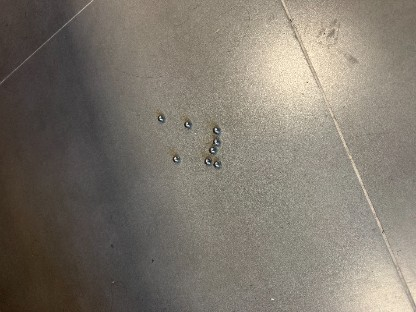ironball: (212, 126, 221, 134), (212, 137, 220, 146), (212, 160, 221, 168), (184, 120, 192, 129), (209, 146, 217, 154), (172, 155, 180, 163), (204, 158, 212, 165), (157, 115, 165, 122)
